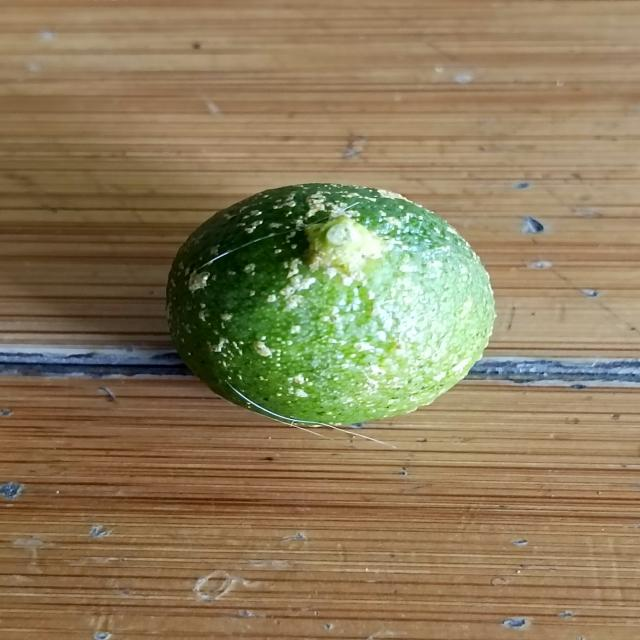scab: (162, 170, 508, 433)
